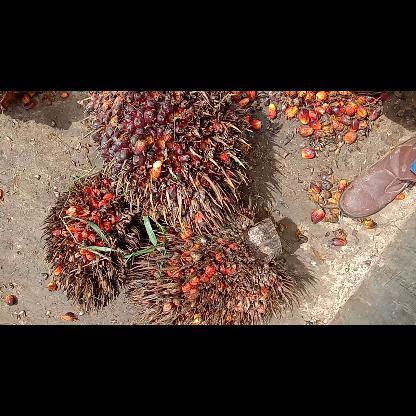TBS masak: (84, 91, 254, 239)
Terlalu masak: (122, 216, 296, 324), (39, 171, 141, 315)
